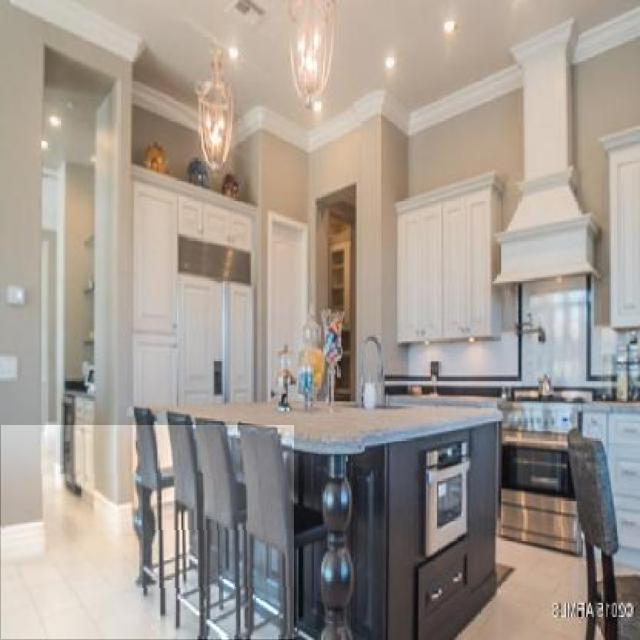floor: (2, 426, 294, 639), (457, 534, 587, 637)
